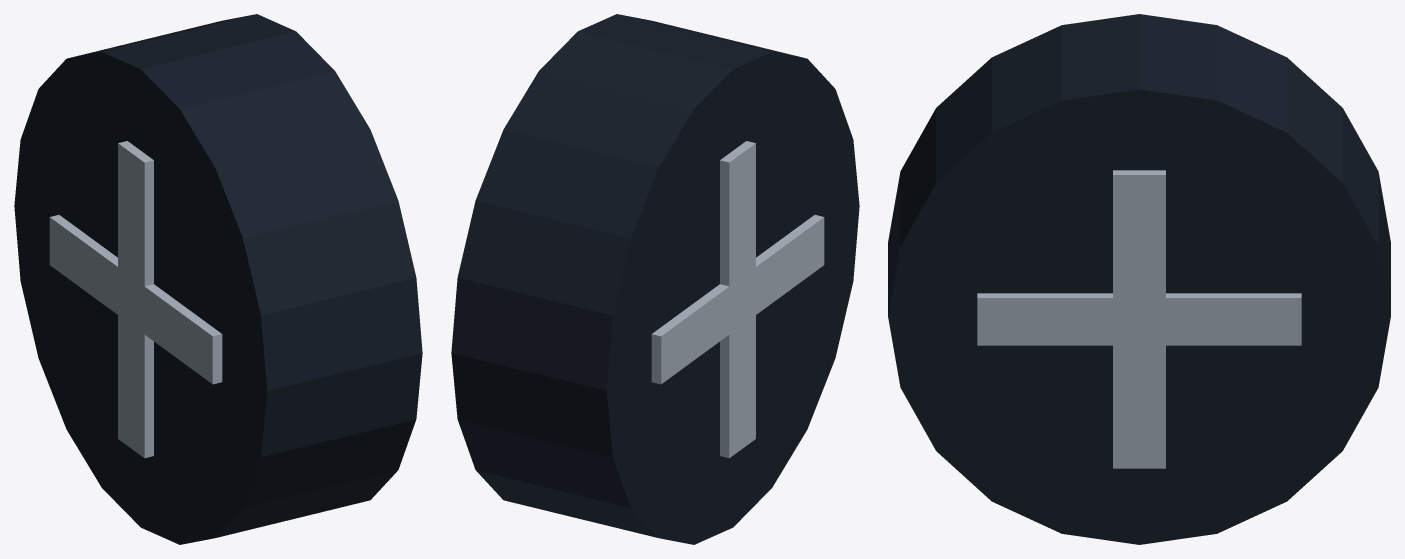
The model's file is wheel.glb.
The picture shows the model from 3 angles, left to right: view 1: azimuth 30°, elevation 25°; view 2: azimuth 150°, elevation 25°; view 3: azimuth 270°, elevation 25°; orthographic projection.
Visible parts, largest first — view 1: XRift_wheel; view 2: XRift_wheel; view 3: XRift_wheel.
Part boxes in pixels (x1,y1,x2,y2): XRift_wheel: (14,14,422,544); XRift_wheel: (451,14,859,544); XRift_wheel: (888,14,1390,544).
Bounding box in the file's own units: 0.247 × 0.62 × 0.62.
